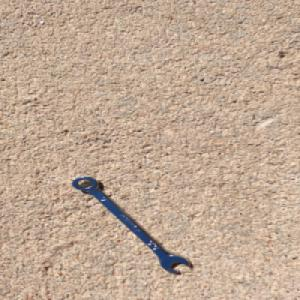Wrench: (68, 174, 192, 274)
